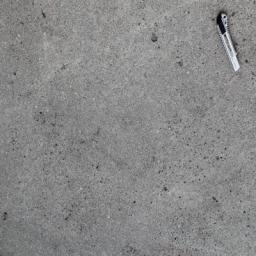FOD: (214, 12, 246, 74)
